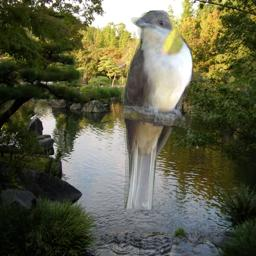Cuckoo: (120, 10, 193, 210)
